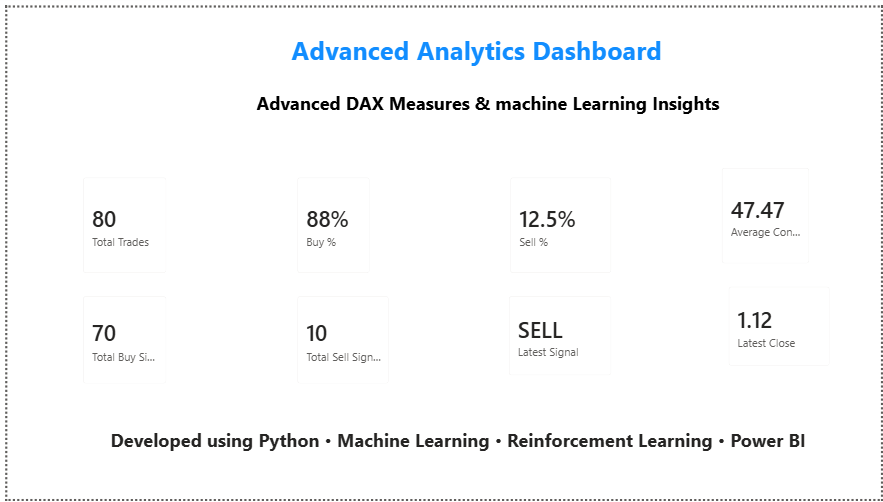

This screenshot's page, from the dashboard's own definition file:
{"tool":"powerbi","page":{"name":"     Advanced Analytics Dashboard","canvas":[1280,720],"ordinal":4},"visuals":[{"type":"cardVisual","fields":{"Data":["ml_predictions.Total Buy Signals"]},"box":[94,406,156,162],"z":0},{"type":"cardVisual","fields":{"Data":["ml_predictions.Total Sell Signals"]},"box":[408,406,168,162],"z":1000},{"type":"cardVisual","fields":{"Data":["ml_predictions.Total Trades"]},"box":[94,232,156,174],"z":2000},{"type":"cardVisual","fields":{"Data":["ml_predictions.Buy %"]},"box":[408,232,140,174],"z":3000},{"type":"cardVisual","fields":{"Data":["ml_predictions.Sell %"]},"box":[720,232,182,174],"z":4000},{"type":"cardVisual","fields":{"Data":["ml_predictions.Latest Signal"]},"box":[718,406,184,150],"z":5000},{"type":"cardVisual","fields":{"Data":["ml_predictions.Latest Close"]},"box":[1040,392,182,150],"z":6000},{"type":"cardVisual","fields":{"Data":["Sum(ml_predictions.Average Confidence)"]},"box":[1030,218,162,174],"z":7000},{"type":"textbox","box":[360,32,862,154],"z":8000},{"type":"textbox","box":[94,568,156,130],"z":9000},{"type":"textbox","box":[146,610,1076,110],"z":10000}]}

Visuals, with their boxes in screenshot pixels (x1, y1, x2, y2), scaled from the page's 1280x720 canvas onto the 883x502 screenshot:
cardVisual - ml_predictions.Total Buy Signals: Rect(65, 283, 172, 396)
cardVisual - ml_predictions.Total Sell Signals: Rect(281, 283, 397, 396)
cardVisual - ml_predictions.Total Trades: Rect(65, 162, 172, 283)
cardVisual - ml_predictions.Buy %: Rect(281, 162, 378, 283)
cardVisual - ml_predictions.Sell %: Rect(497, 162, 622, 283)
cardVisual - ml_predictions.Latest Signal: Rect(495, 283, 622, 388)
cardVisual - ml_predictions.Latest Close: Rect(717, 273, 843, 378)
cardVisual - Sum(ml_predictions.Average Confidence): Rect(711, 152, 822, 273)
textbox: Rect(248, 22, 843, 130)
textbox: Rect(65, 396, 172, 487)
textbox: Rect(101, 425, 843, 501)
